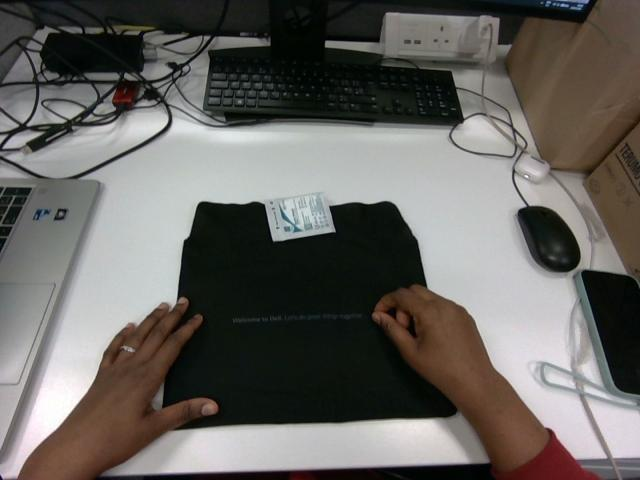gauze: (266, 193, 334, 241)
